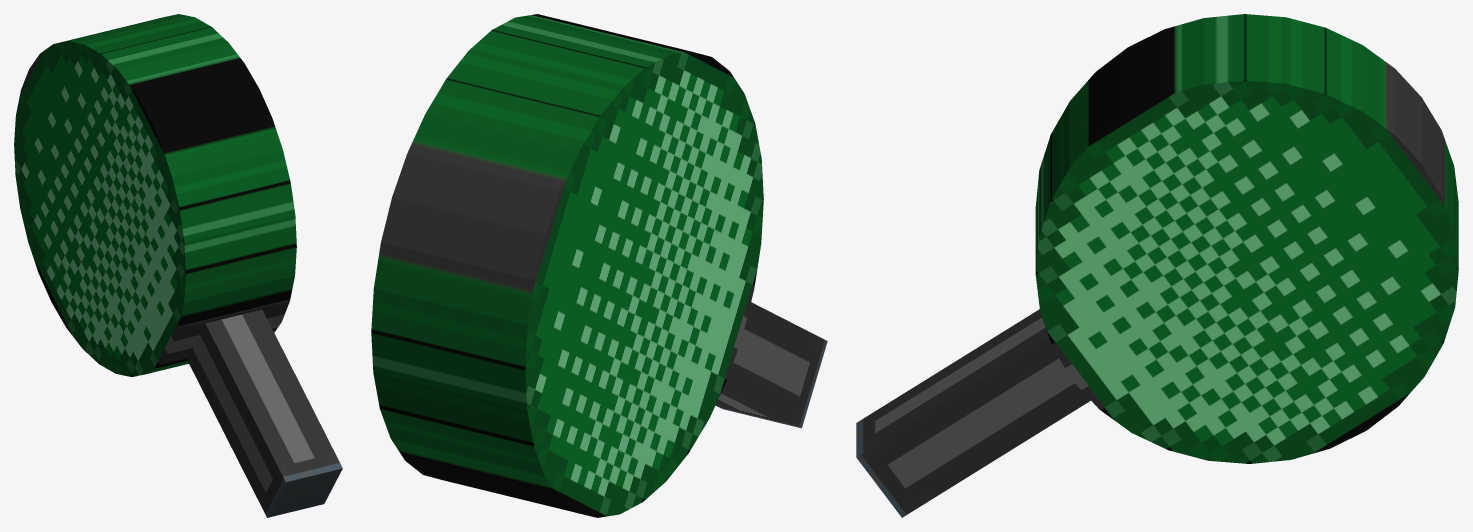
Rendered from GreenLever.glb.
The picture shows the model from 3 angles, left to right: view 1: azimuth 30°, elevation 25°; view 2: azimuth 150°, elevation 25°; view 3: azimuth 270°, elevation 25°; orthographic projection. The views are drawn at different scales.
Parts seen in each view (by area): view 1: Cube.005; view 2: Cube.005; view 3: Cube.005.
Part boxes in pixels (x1,y1,x2,y2): Cube.005: (14, 14, 342, 517); Cube.005: (371, 14, 827, 517); Cube.005: (856, 14, 1458, 517).
Size of the model in its own units: 0.9934 by 3.16 by 3.8.
2 materials, 2 textured.
